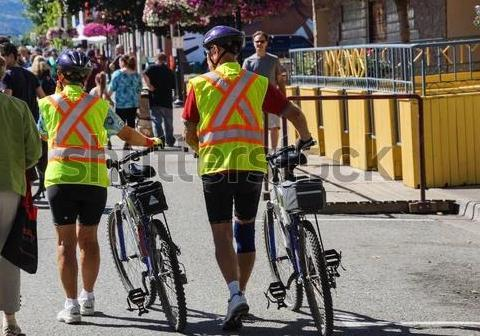Vest: (191, 69, 266, 151), (39, 94, 111, 165)
